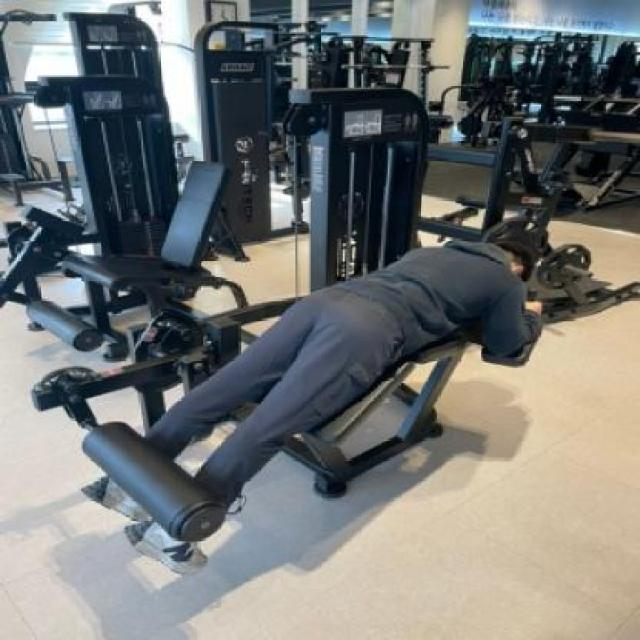reg curl machine: (66, 86, 554, 583)
